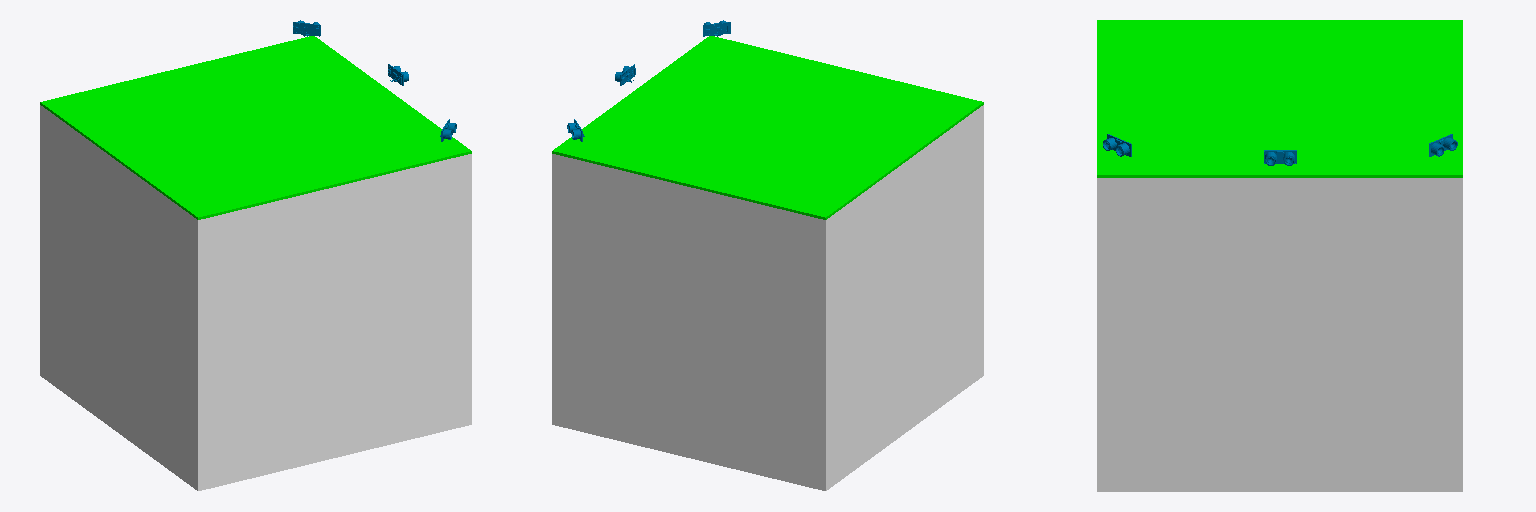
The robot description file, URDF, robot "Transporter_model_2.0":
<?xml version="1.0"?>
<robot name="Transporter_model_2.0">

<!--define the colour parameters here -->
<material name="black">
       <color rgba="0 0 0 1"/>
   </material>

   <material name="white">
       <color rgba="1 1 1 1.2"/>
   </material>

   <material name="red">
       <color rgba="1 0 0 1"/>
   </material>

   <material name="green">
       <color rgba="0 1 0 2"/>
   </material>

   <material name="blue">
       <color rgba="0 0.5 0.7 2"/>
   </material>

   <material name="grey">
       <color rgba=".2 .2 .2 1"/>
   </material>

<!--define the various links here -->
<link name="base_link">
<visual>
<geometry>
  <!--dimensions for size (x,y,z) in ros coordinate conventions-->
  <box size="0.5 0.5 0.4735"/>
</geometry>
<origin rpy="0 0 0" xyz="0 0 0.23675"/>
<material name="white"/>
</visual>
</link>

<link name="top_sensor_layer">
<visual>
<geometry>
  <!--dimensions for size (x,y,z) in ros coordinate conventions-->
  <box size="0.5 0.5 0.0045"/>
</geometry>
<origin rpy="0 0 0" xyz="0 0 -0.00225"/>
<material name="green"/>
</visual>
</link>


<link name="base_laser">
    <visual>
      <origin rpy="0.0 0 0" xyz="0 0 0"/>
      <geometry>
        <mesh filename="package://robot_model_test/meshes/sick_tim551.stl"/>
      </geometry>
    <material name="blue"/>
    </visual>
  </link>

  <link name="camera_link">
      <visual>
        <origin rpy="1.57 0 1.57" xyz="0 0 0"/>
        <geometry>
          <mesh filename="package://robot_model_test/meshes/d435.dae"/>
        </geometry>
      <material name="blue"/>
      </visual>
    </link>

    <link name="us_left">
        <visual>
        <!--  <origin rpy="-1.57 0 -1.57" xyz="0 0 0"/> -->
          <origin rpy="-1.57 0 -1.57" xyz="0 0.02268 0"/>
          <geometry>
            <mesh filename="package://robot_model_test/meshes/HC-SR04-binary.stl" scale="0.001 0.001 0.001"/>
          </geometry>
        <material name="blue"/>
        </visual>
      </link>

      <link name="us_front">
          <visual>
          <!--  <origin rpy="-1.57 0 -1.57" xyz="0 0 0"/> -->
            <origin rpy="-1.57 0 -1.57" xyz="0 0.02268 0"/>
            <geometry>
              <mesh filename="package://robot_model_test/meshes/HC-SR04-binary.stl" scale="0.001 0.001 0.001"/>
            </geometry>
          <material name="blue"/>
          </visual>
        </link>

        <link name="us_right">
            <visual>
            <!--  <origin rpy="-1.57 0 -1.57" xyz="0 0 0"/> -->
              <origin rpy="-1.57 0 -1.57" xyz="0 0.02268 0"/>
              <geometry>
                <mesh filename="package://robot_model_test/meshes/HC-SR04-binary.stl" scale="0.001 0.001 0.001"/>
              </geometry>
            <material name="blue"/>
            </visual>
          </link>




<!--define the various joints here -->
<joint name="top_sensor_layer_joint" type="fixed">
    <parent link="base_link"/>
    <child link="top_sensor_layer"/>
    <!--The origin defines the transform  -->
    <origin xyz="0 0 0.478"/>
  </joint>

<joint name="lidar_joint" type="fixed">
    <parent link="top_sensor_layer"/>
    <child link="base_laser"/>
    <!--The origin defines the transform  -->
    <origin xyz="0 0 0.06246"/>
  </joint>

  <joint name="camera_joint" type="fixed">
      <parent link="top_sensor_layer"/>
      <child link="camera_link"/>
      <!--The origin defines the transform  -->
      <origin xyz="0.23315 0 -0.03615"/>
    </joint>

    <joint name="us_left_joint" type="fixed">
        <parent link="top_sensor_layer"/>
        <child link="us_left"/>
        <!--The origin defines the transform  -->
        <origin rpy="0 0 0.78539" xyz="0.219 0.219 0.04"/>
      </joint>


        <joint name="us_front_joint" type="fixed">
              <parent link="top_sensor_layer"/>
              <child link="us_front"/>
              <!--The origin defines the transform  -->
              <origin rpy="0 0 0" xyz="0.255 0 0.04"/>
            </joint>

            <joint name="us_right_joint" type="fixed">
                <parent link="top_sensor_layer"/>
                <child link="us_right"/>
                <!--The origin defines the transform  -->
                <origin rpy="0 0 -0.78539" xyz="0.219 -0.219 0.04"/>
              </joint>


</robot>

--- Render facts (derived) ---
3 views of the same robot in one strip: view 1: azimuth 30°, elevation 25°; view 2: azimuth 150°, elevation 25°; view 3: azimuth 270°, elevation 25° (orthographic).
Robot: Transporter_model_2.0 — 7 links, 6 joints (6 fixed); root link base_link; default pose: all joints at 0.
Visible links, largest first — view 1: base_link, top_sensor_layer; view 2: base_link, top_sensor_layer; view 3: base_link, top_sensor_layer.
Link boxes in pixels (x1,y1,x2,y2): base_link: (40,105,471,490); top_sensor_layer: (40,36,471,219); base_link: (552,105,983,490); top_sensor_layer: (552,36,983,219); base_link: (1097,178,1462,491); top_sensor_layer: (1097,20,1462,177).
Bounding box of the posed robot: 0.5188 × 0.5 × 0.518 m (x, y, z).
3 mesh visuals loaded from 3 distinct referenced files (1 binary STL); not drawn: 2 (reference not matched to a file when rendering).